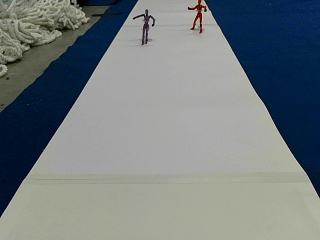pedestrian: (132, 8, 154, 43), (187, 0, 207, 31)
